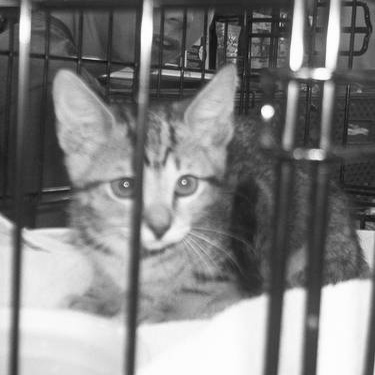cat: (1, 57, 373, 312)
